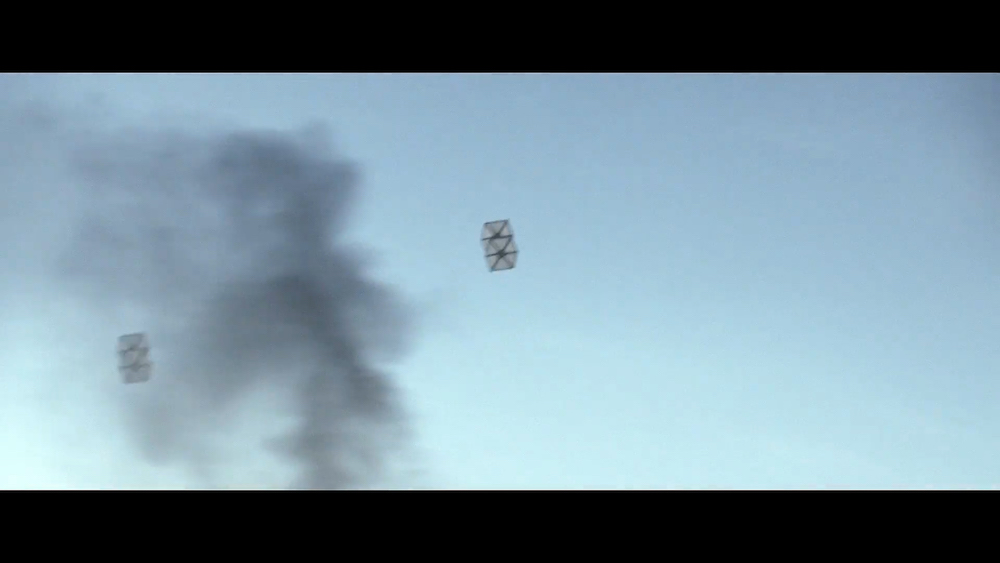Tie Fighter: (113, 332, 158, 388), (478, 219, 521, 276)
